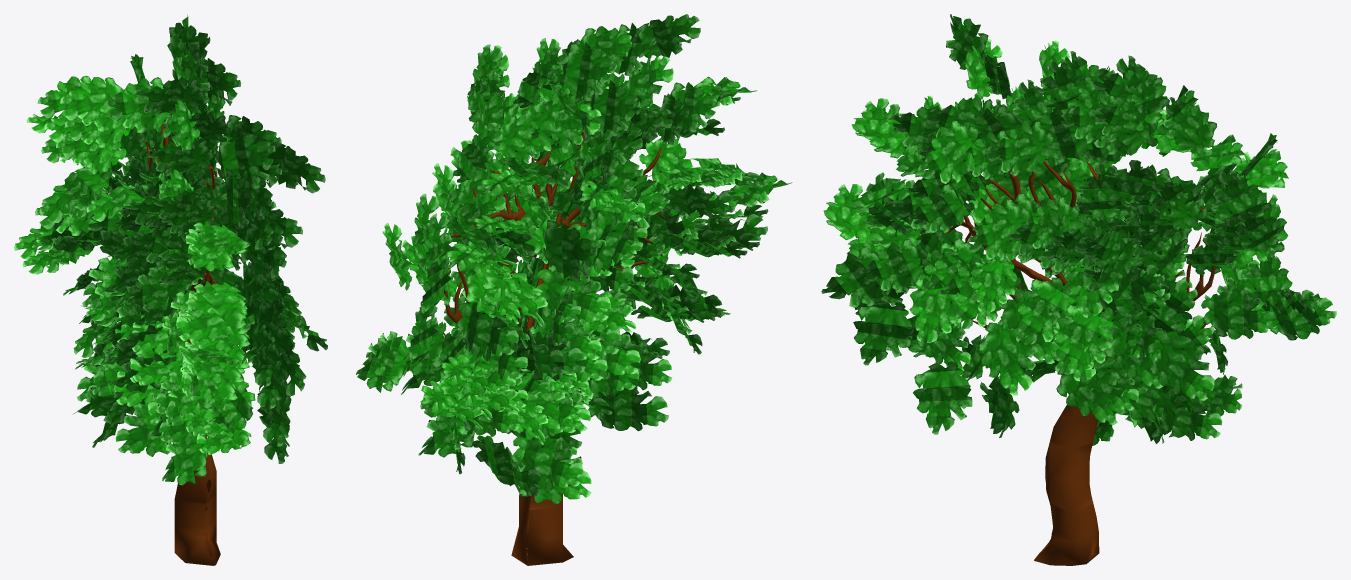
The model's file is tree4.fbx.
3 renders of one model, left to right at view 1: azimuth 30°, elevation 25°; view 2: azimuth 150°, elevation 25°; view 3: azimuth 270°, elevation 25°, orthographic. The views are drawn at different scales.
Visible parts, largest first — view 1: c090c787-1d18-485c-aed2-695b9deaaf12|d2bc2ccb-dd17-4b76-b26a (×91), c090c787-1d18-485c-aed2-695b9deaaf12; view 2: c090c787-1d18-485c-aed2-695b9deaaf12|d2bc2ccb-dd17-4b76-b26a (×88), c090c787-1d18-485c-aed2-695b9deaaf12; view 3: c090c787-1d18-485c-aed2-695b9deaaf12|d2bc2ccb-dd17-4b76-b26a (×85), c090c787-1d18-485c-aed2-695b9deaaf12.
Part boxes in pixels (bbox=[...]): c090c787-1d18-485c-aed2-695b9deaaf12|d2bc2ccb-dd17-4b76-b26a (×91): bbox=[14, 14, 327, 485]; c090c787-1d18-485c-aed2-695b9deaaf12: bbox=[145, 124, 220, 565]; c090c787-1d18-485c-aed2-695b9deaaf12|d2bc2ccb-dd17-4b76-b26a (×88): bbox=[356, 14, 792, 504]; c090c787-1d18-485c-aed2-695b9deaaf12: bbox=[443, 120, 666, 565]; c090c787-1d18-485c-aed2-695b9deaaf12|d2bc2ccb-dd17-4b76-b26a (×85): bbox=[821, 14, 1336, 440]; c090c787-1d18-485c-aed2-695b9deaaf12: bbox=[944, 161, 1215, 565].
Size of the model in its own units: 44.27 by 111 by 101.
2 materials, 2 textured.
